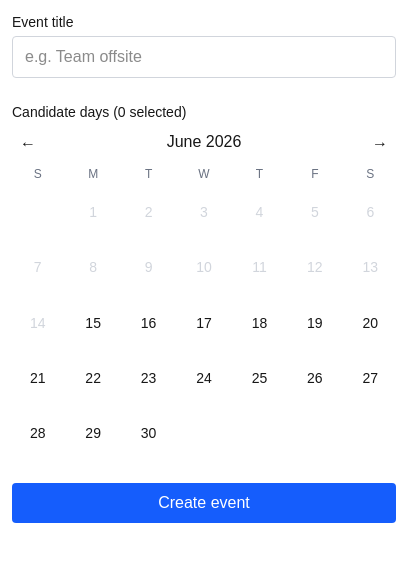
Test: CreateEventForm › shows the server error message when creation fails
Type "Team Offsite" into the field labelled "Event title" at (204, 57), box x1=12 y1=36 x2=396 y2=78
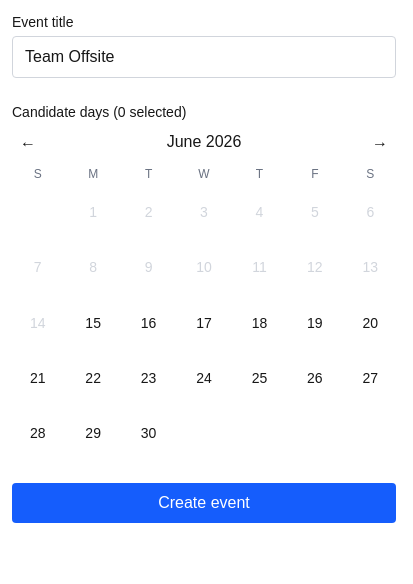
Click the button "20" at (370, 323), box x1=345 y1=297 x2=396 y2=348
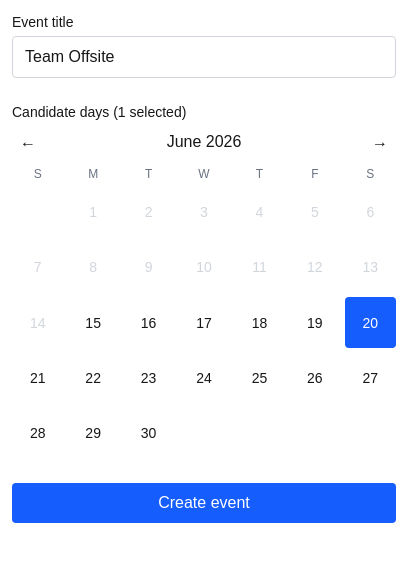
Click the button "Create event" at (204, 503), box x1=12 y1=483 x2=396 y2=523
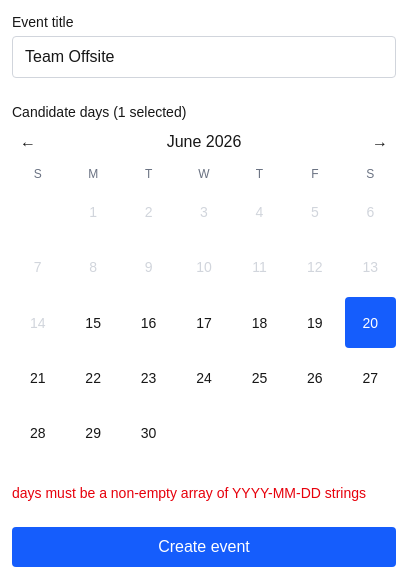
Now the text "days must be a non-empty array of YYYY-MM-DD strings" is shown, box x1=12 y1=483 x2=396 y2=503
